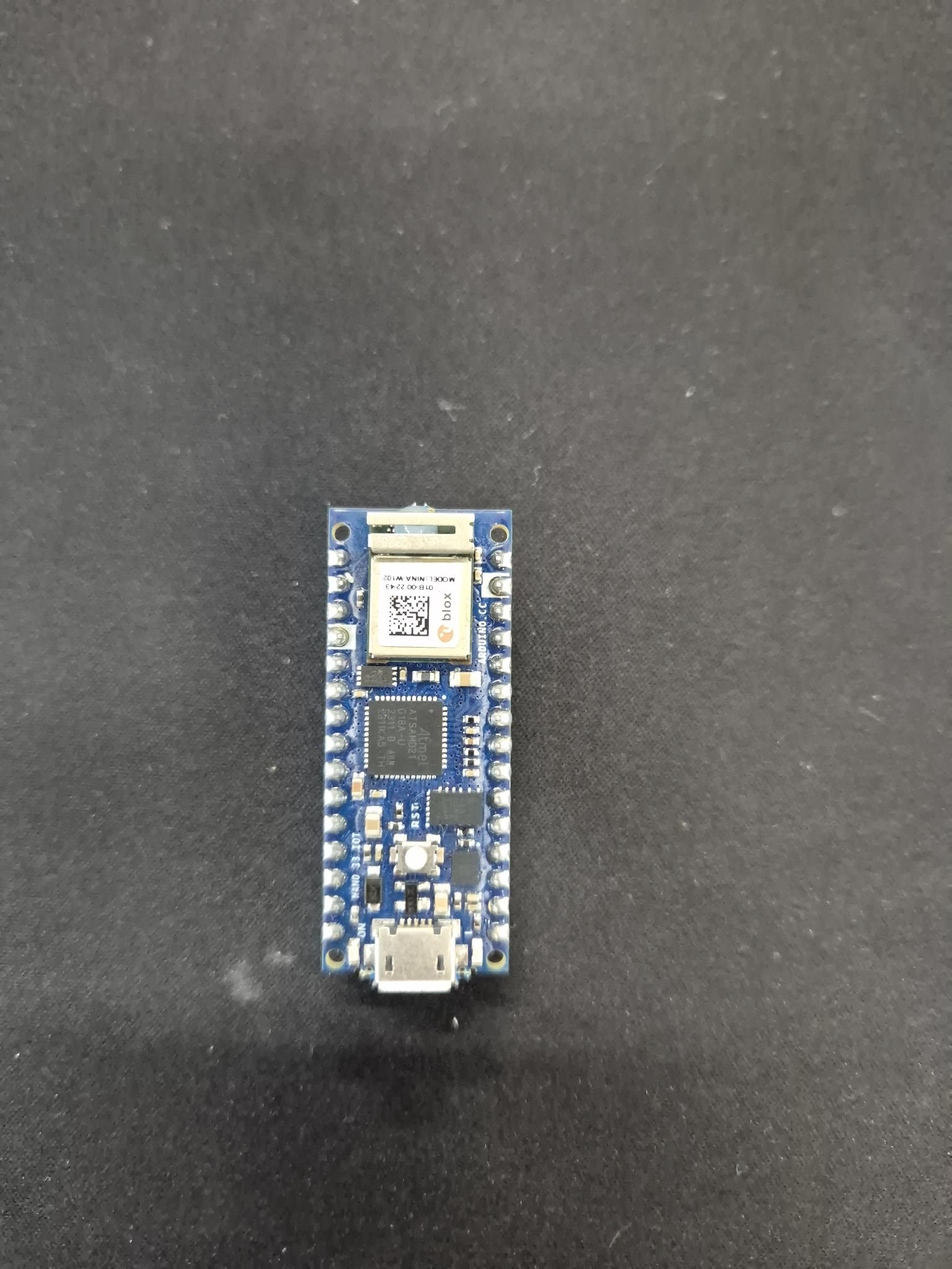arduino-nano-iot-33: (322, 505, 511, 991)
